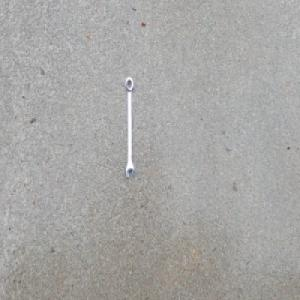Wrench: (124, 75, 135, 179)
